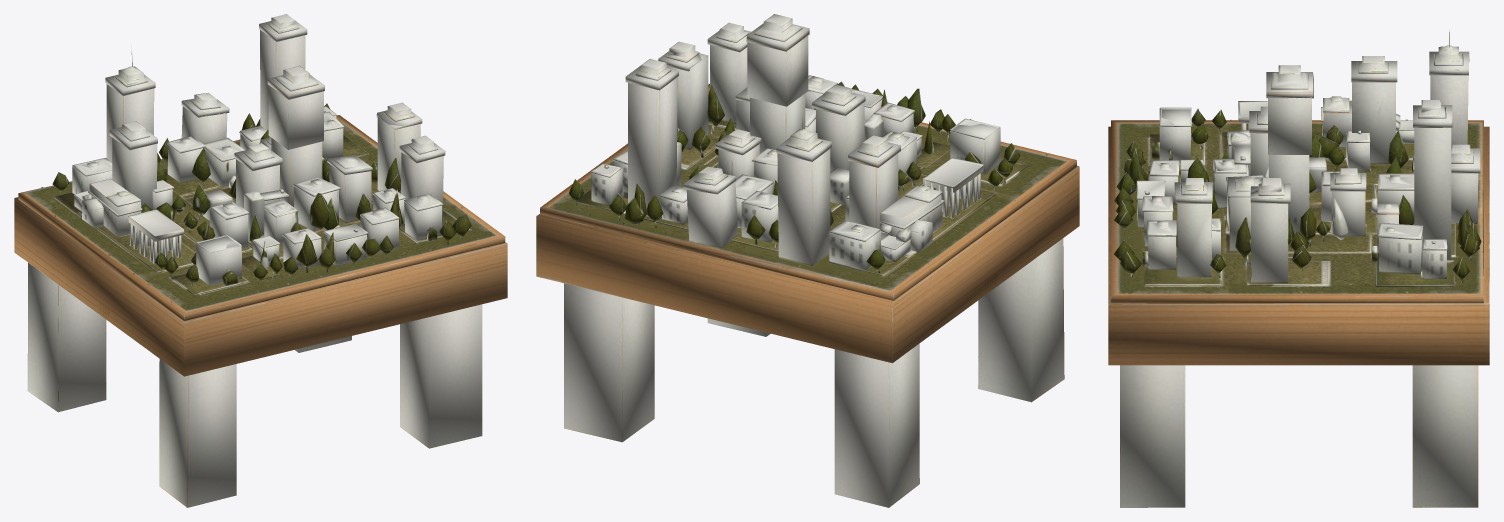
File: office-architect-model.glb
3 views of the same model, side by side, from view 1: azimuth 30°, elevation 25°; view 2: azimuth 150°, elevation 25°; view 3: azimuth 270°, elevation 25° (orthographic). The views are drawn at different scales.
Parts seen in each view (by area): view 1: architect-model; view 2: architect-model; view 3: architect-model.
Part boxes in pixels (x1=…): architect-model: x1=14, y1=14, x2=507, y2=507; architect-model: x1=536, y1=14, x2=1079, y2=507; architect-model: x1=1108, y1=29, x2=1489, y2=507.
Size of the model in its own units: 1.6 by 1.61 by 1.46.
Materials: 1 (1 with a texture image).
